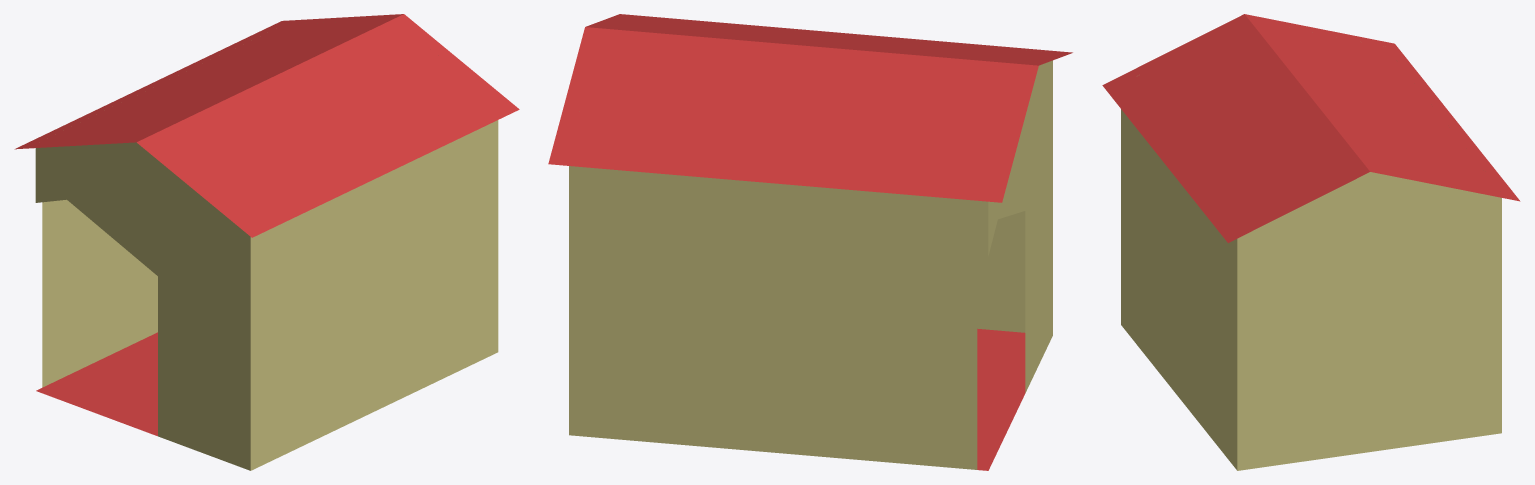
The picture shows the model from 3 angles, left to right: view 1: azimuth 30°, elevation 25°; view 2: azimuth 150°, elevation 25°; view 3: azimuth 270°, elevation 25°; orthographic projection. The views are drawn at different scales.
Bounding box in the file's own units: 15.88 × 14.08 × 10.64.
